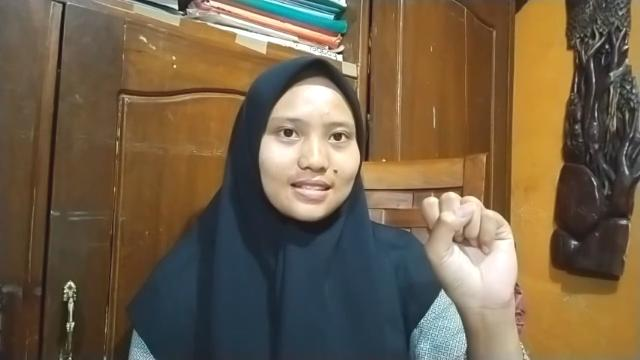S: (421, 193, 517, 305)
